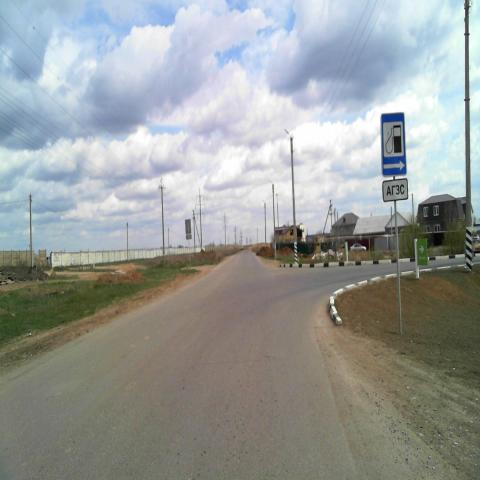7_3: (381, 113, 406, 175)
